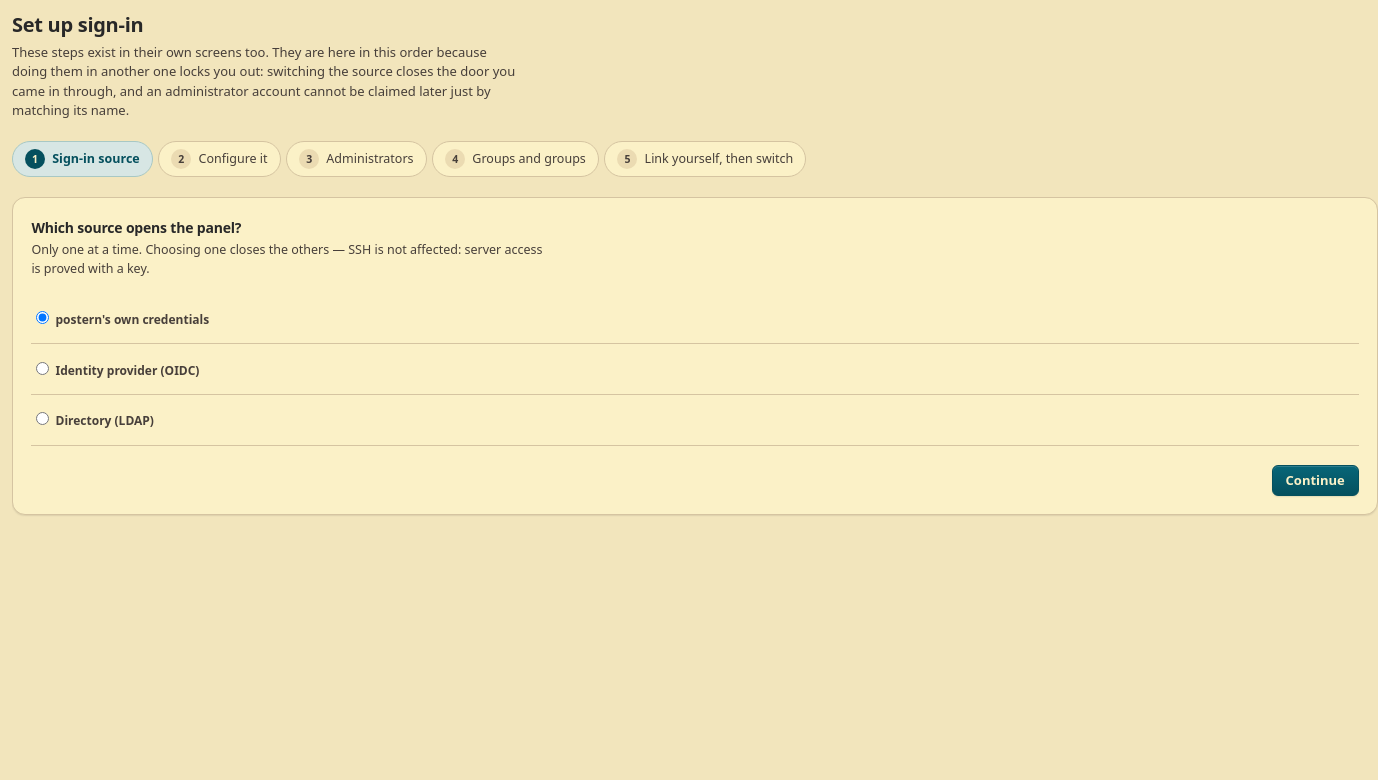
Test: kurulum sihirbazi › kimlik baglaninca gecis acilir ve sifre sunucuya gider
Expected: the heading "Which source opens the panel?" is shown, [31, 218, 241, 237]
Click the radio button labelled "Directory (LDAP)": (43, 419) [36, 412, 49, 425]
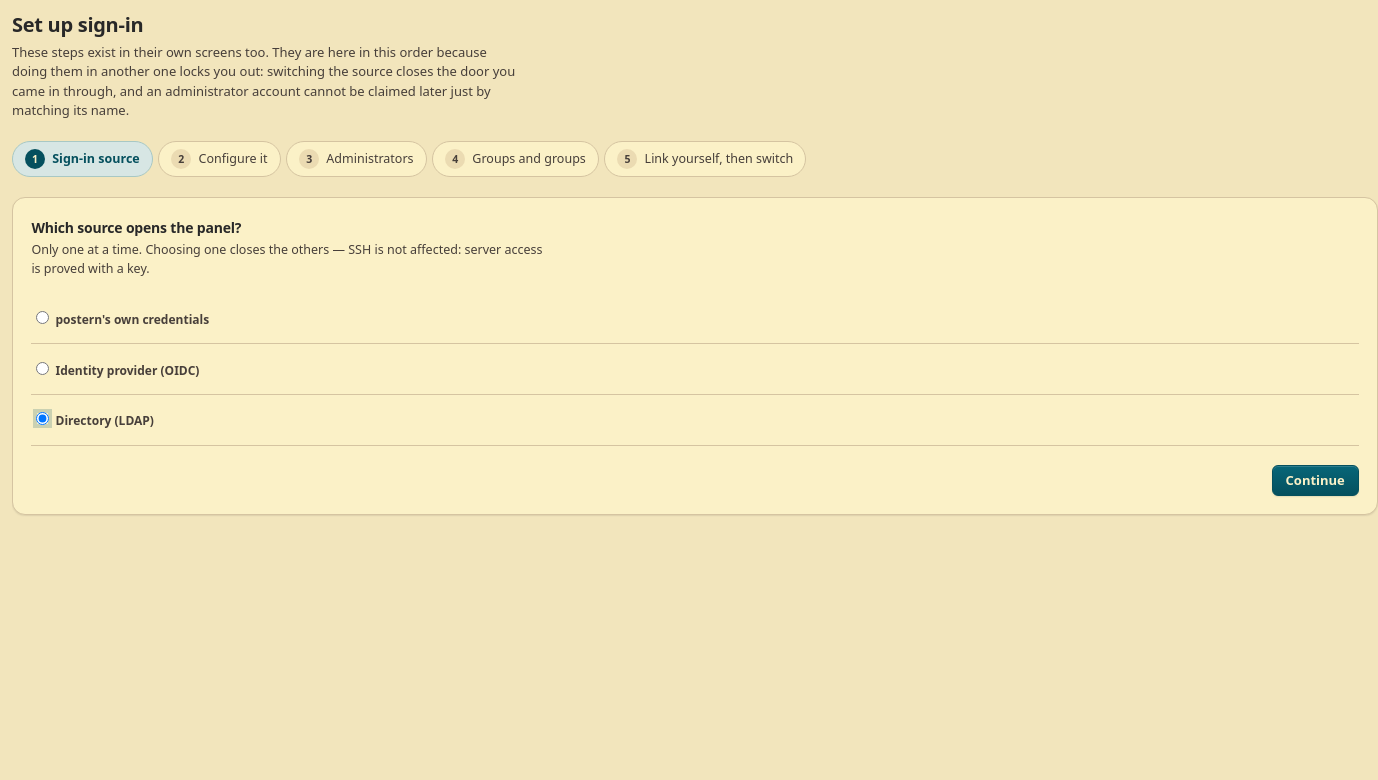
Click the button "5 Link yourself, then switch": (705, 159) [604, 141, 806, 177]
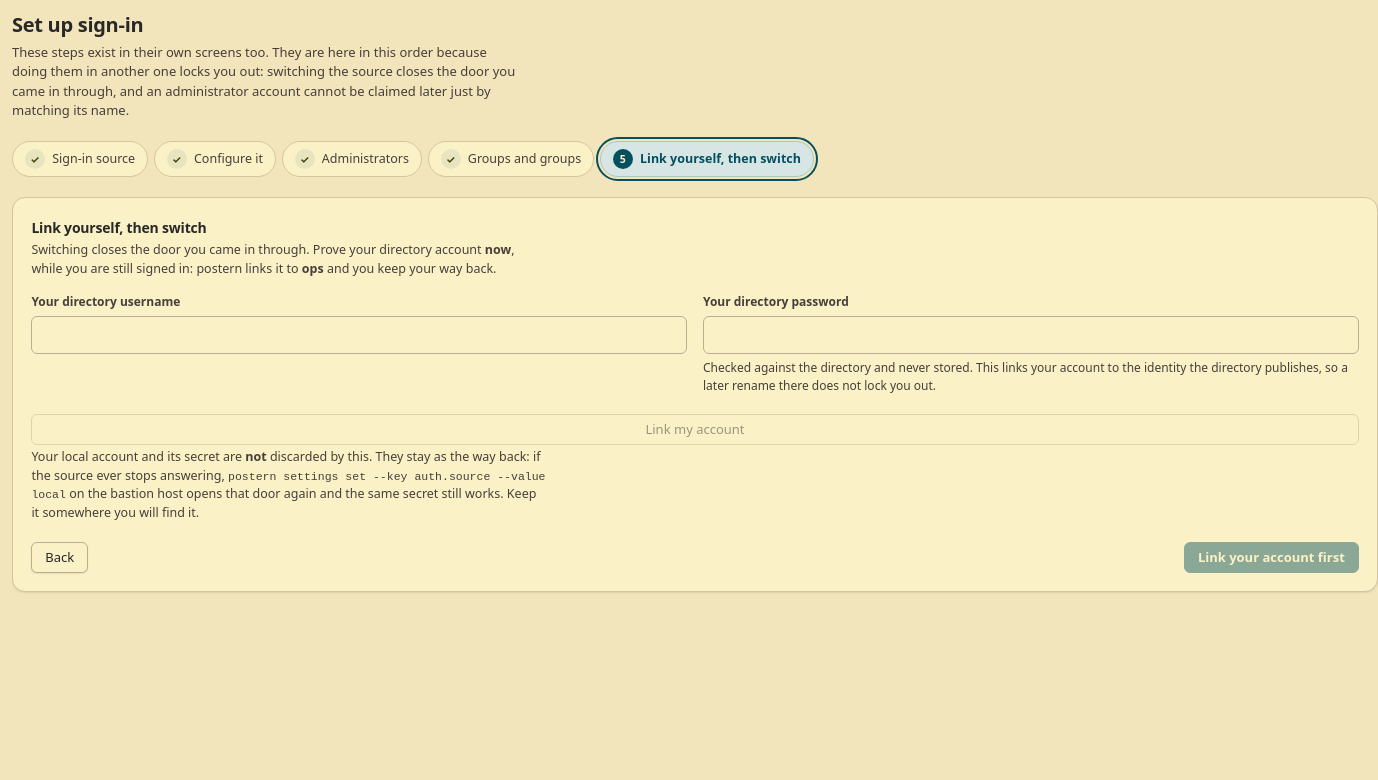
In the field labelled "Your directory username": (359, 335) [31, 316, 687, 354], type "yigit.basalma"
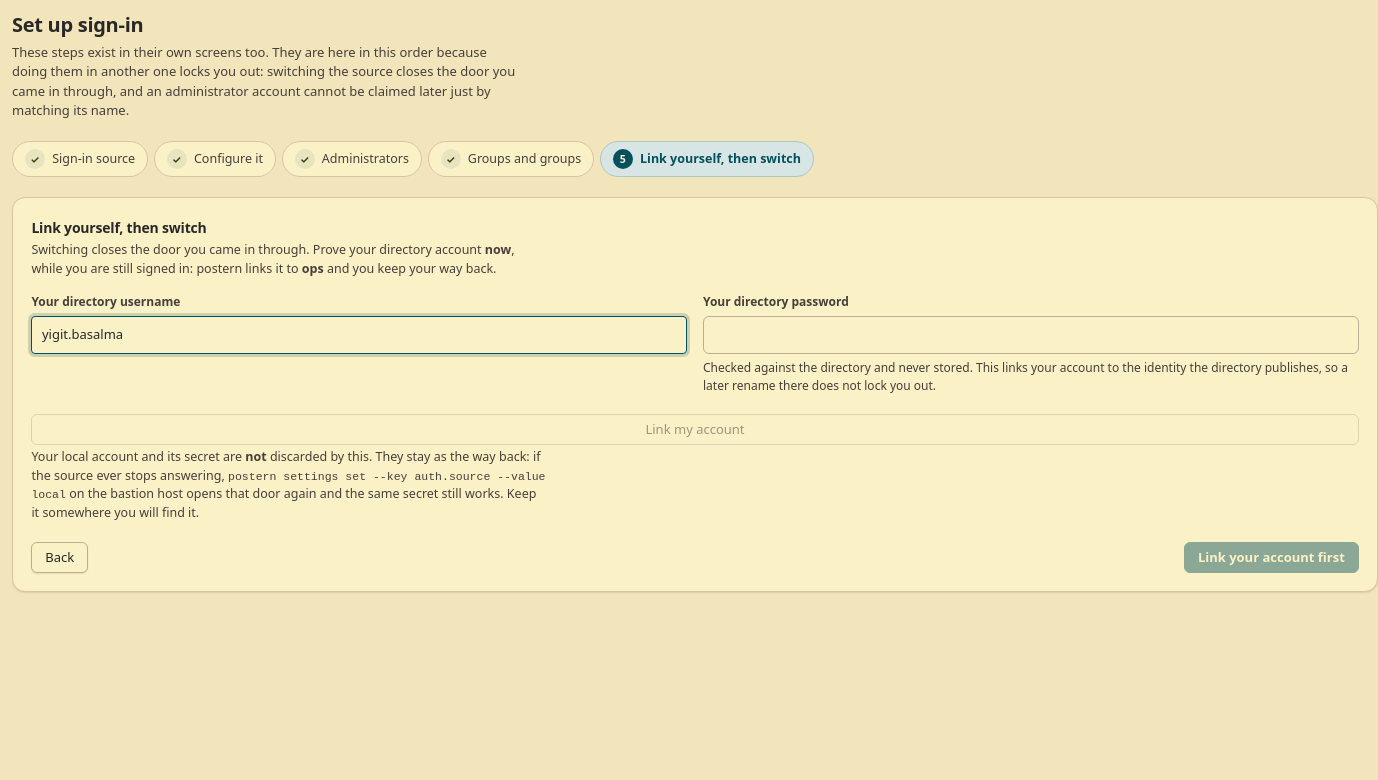
In the password field labelled "Your directory password": (1031, 335) [703, 316, 1359, 354], type "gizli"
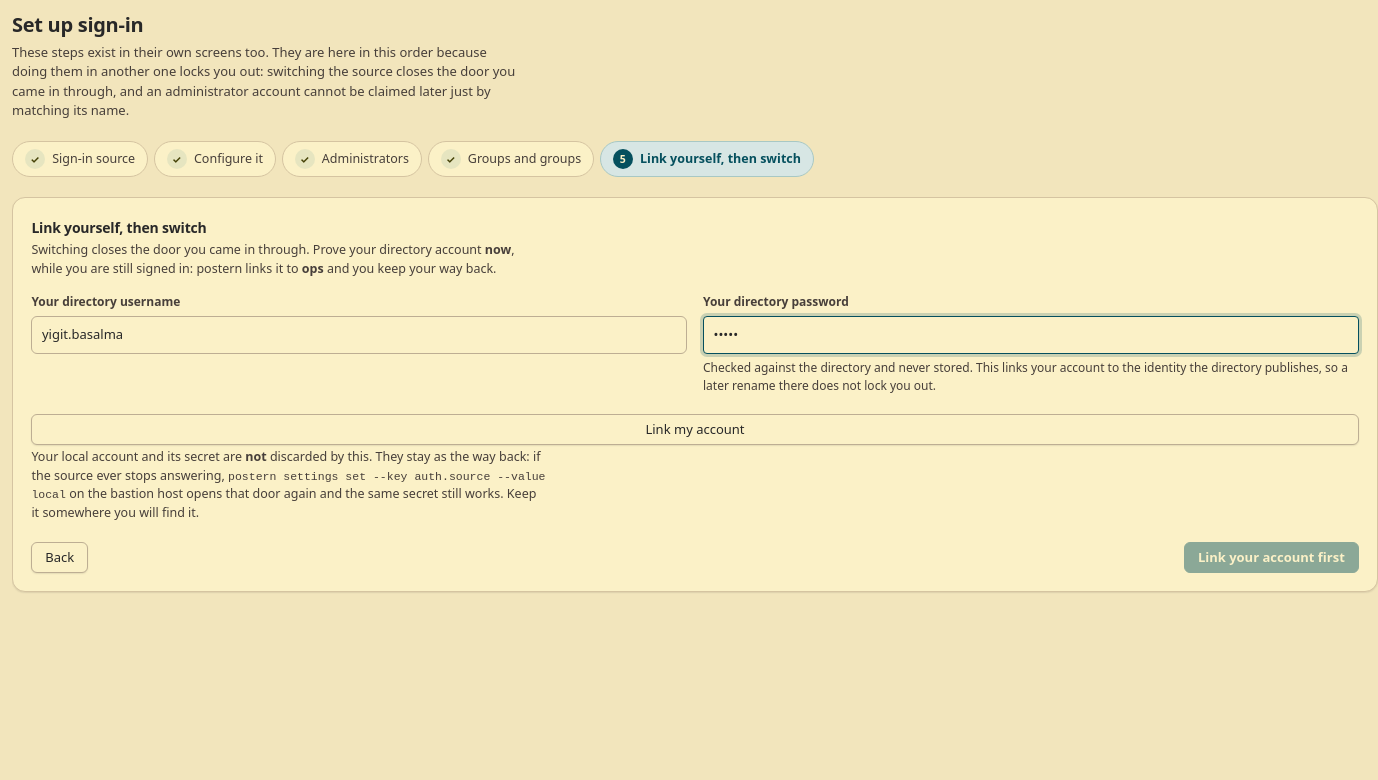
Click the button with aria-label "link my directory account": (695, 429) [31, 414, 1359, 445]
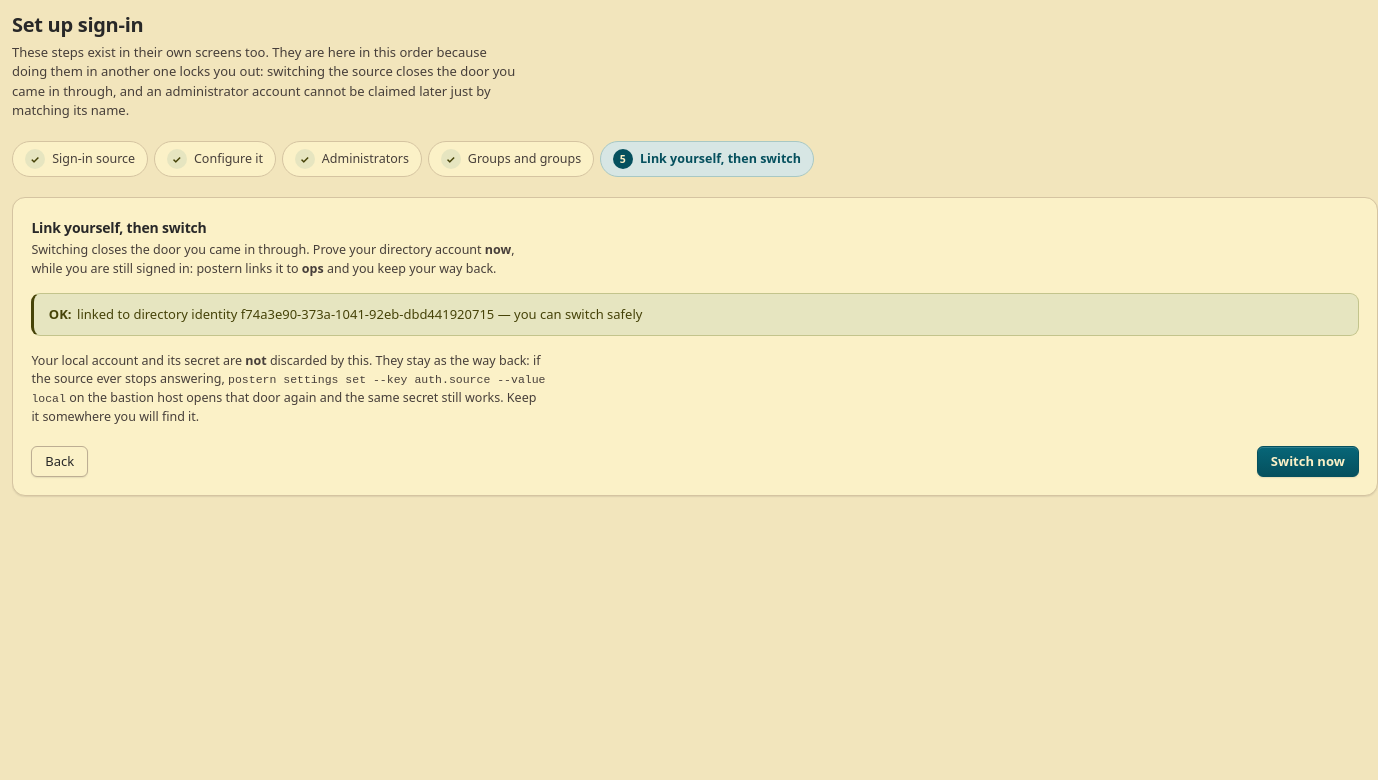
Result: the button with aria-label "switch the panel to this source" is enabled at [1257, 446, 1359, 477]
